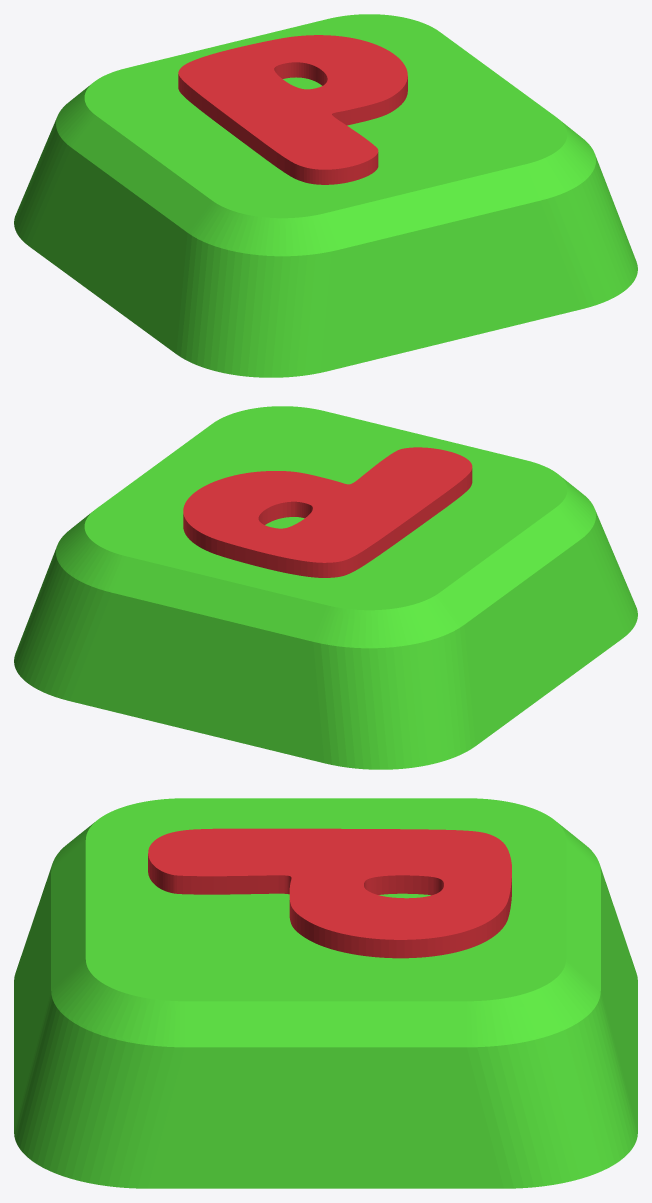
3 renders of one model, top to bottom at view 1: azimuth 30°, elevation 25°; view 2: azimuth 150°, elevation 25°; view 3: azimuth 270°, elevation 25°, orthographic. The views are drawn at different scales.
Parts seen in each view (by area): view 1: FONT_P, CAPS_P; view 2: FONT_P, CAPS_P; view 3: FONT_P, CAPS_P.
Boxes of the visible parts, left/top/right/bottom form: FONT_P: left=14, top=14, right=637, bottom=377; CAPS_P: left=178, top=35, right=407, bottom=184; FONT_P: left=14, top=406, right=637, bottom=769; CAPS_P: left=183, top=447, right=472, bottom=577; FONT_P: left=14, top=798, right=637, bottom=1188; CAPS_P: left=148, top=828, right=511, bottom=958.
Bounding box in the file's own units: 18 × 5.59 × 18.
